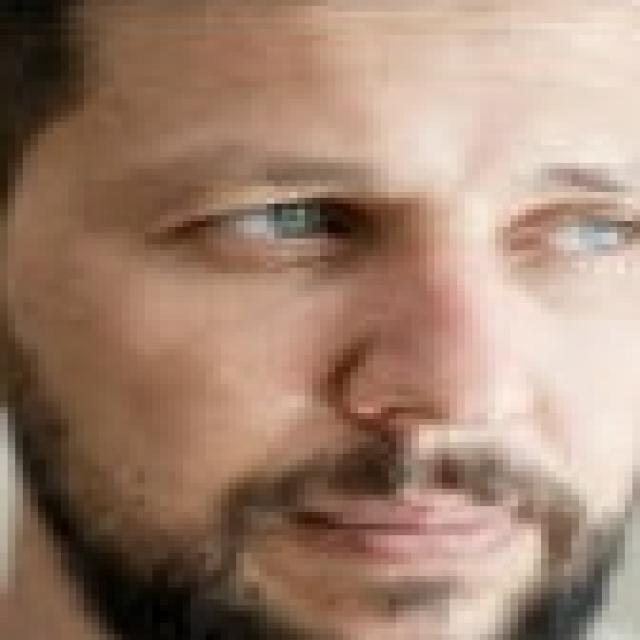Anxiety: (0, 0, 632, 634)
